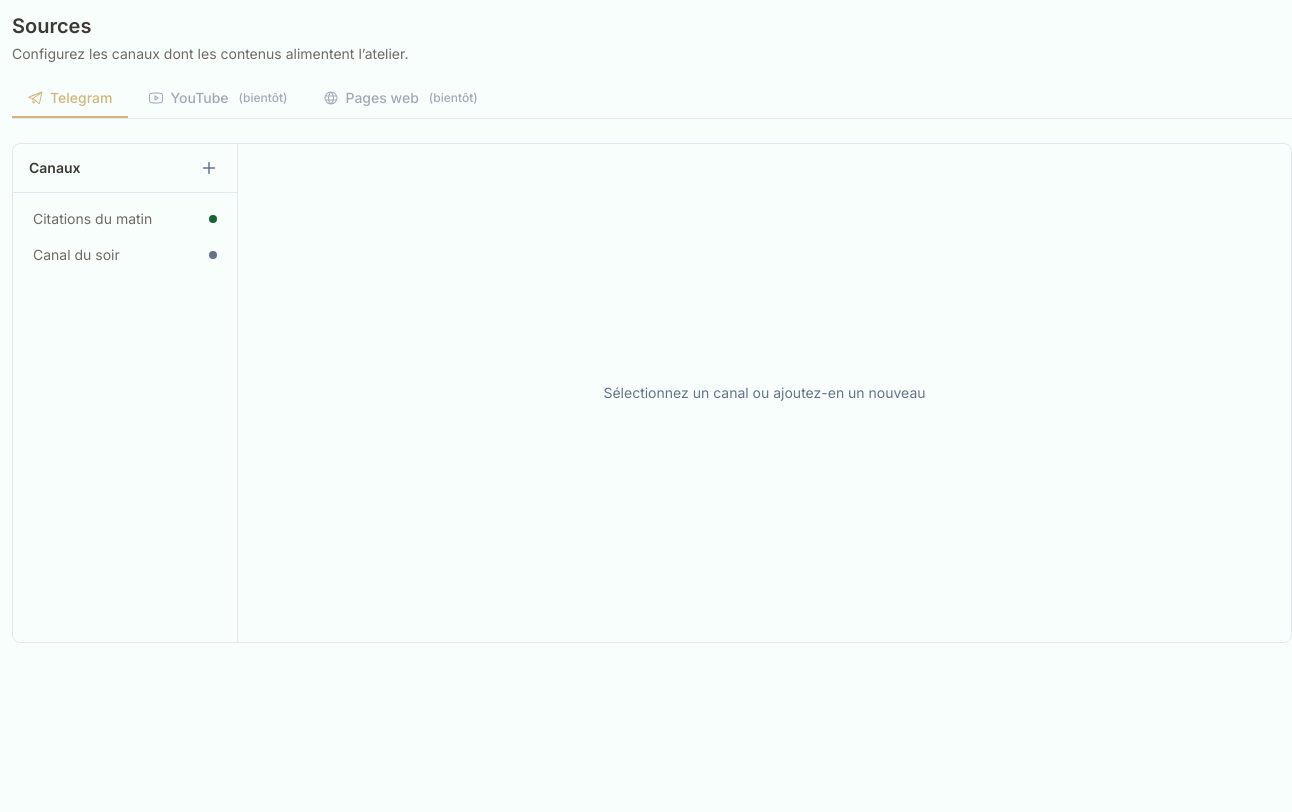
Scenario: SourcesPage › remplit le formulaire en cliquant sur un canal
Click the button with test id "canal-item-1": click(125, 219) 21,201 -> 229,237
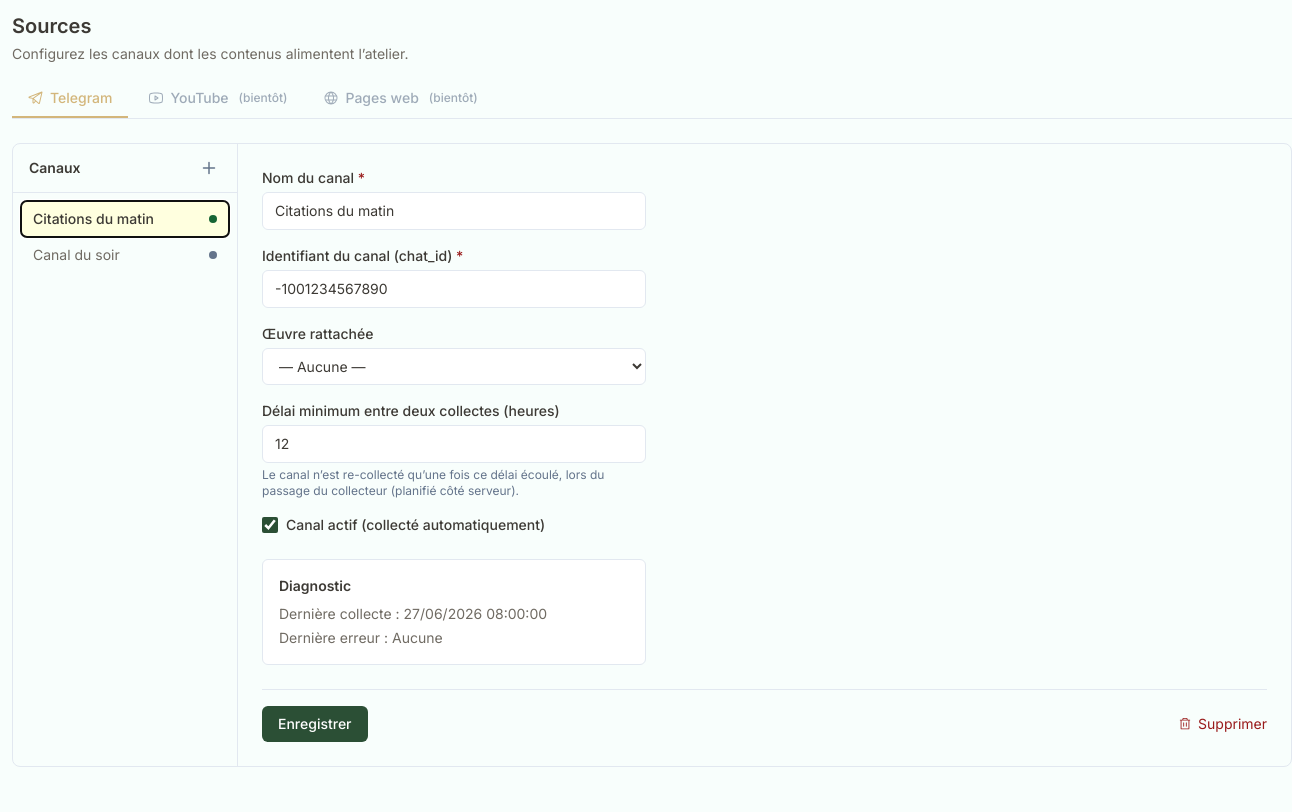
Result: the field labelled "Nom du canal" holds "Citations du matin" at 262,192 -> 646,230
Result: the field named "Identifiant du canal Telegram" holds "-1001234567890" at 262,270 -> 646,308
